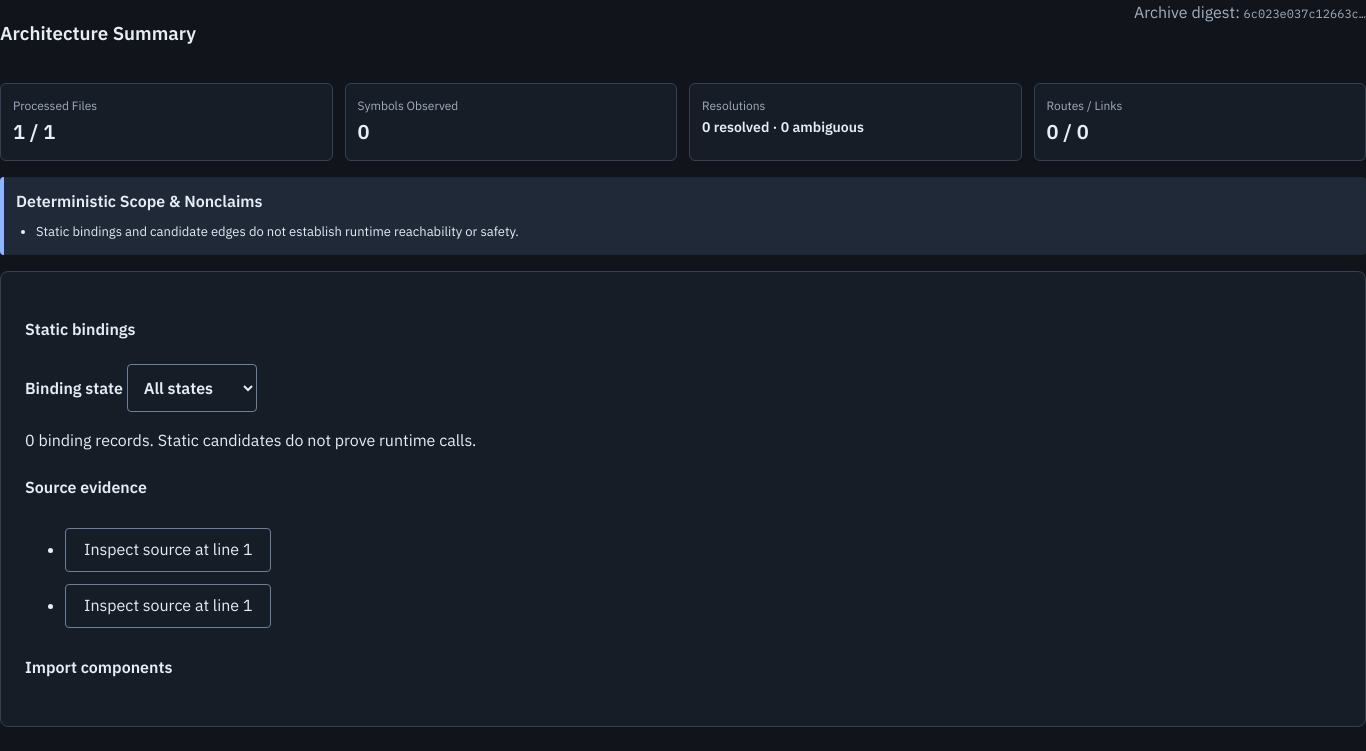
it: shows exact stored source as escaped text
The width and height of the screenshot is (1366, 751).
Click the 1st button "Inspect source at line 1".
click(168, 550)  # box 65,528 -> 272,572
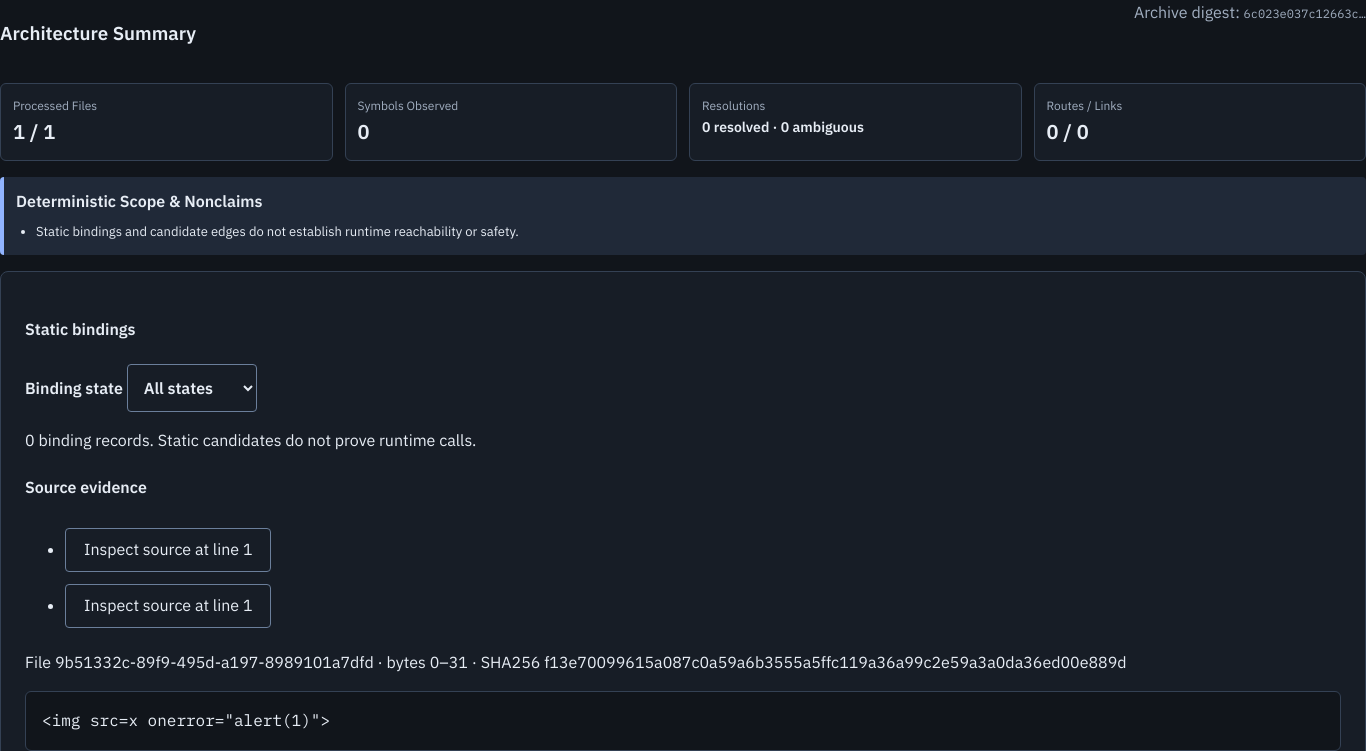
Expected: the text "Static candidates do not prove runtime calls" is shown, 35,430 -> 476,450
Result: the element named "Source excerpt" shows "<img src=x" at 42,710 -> 330,730
